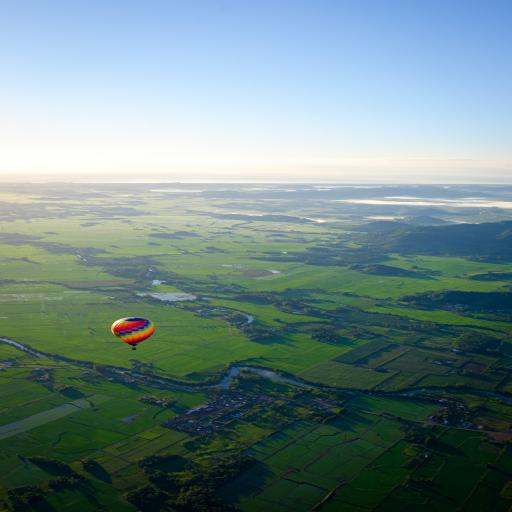hot air ballon: (109, 316, 156, 356)
